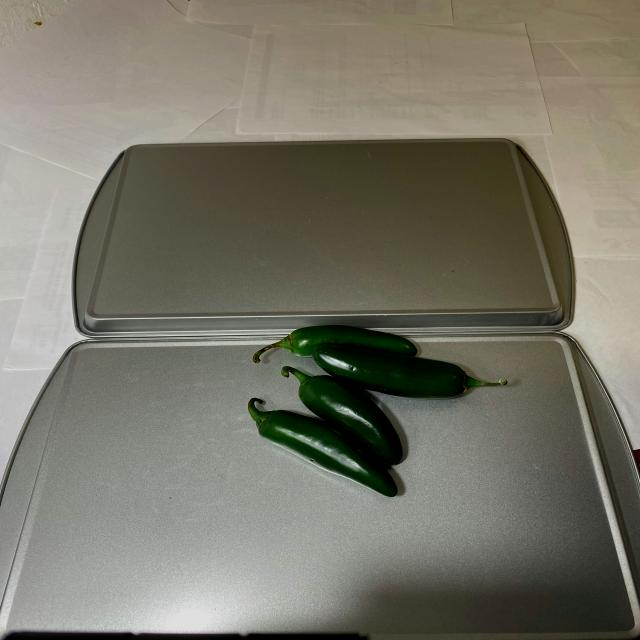chilli: (226, 323, 518, 499)
